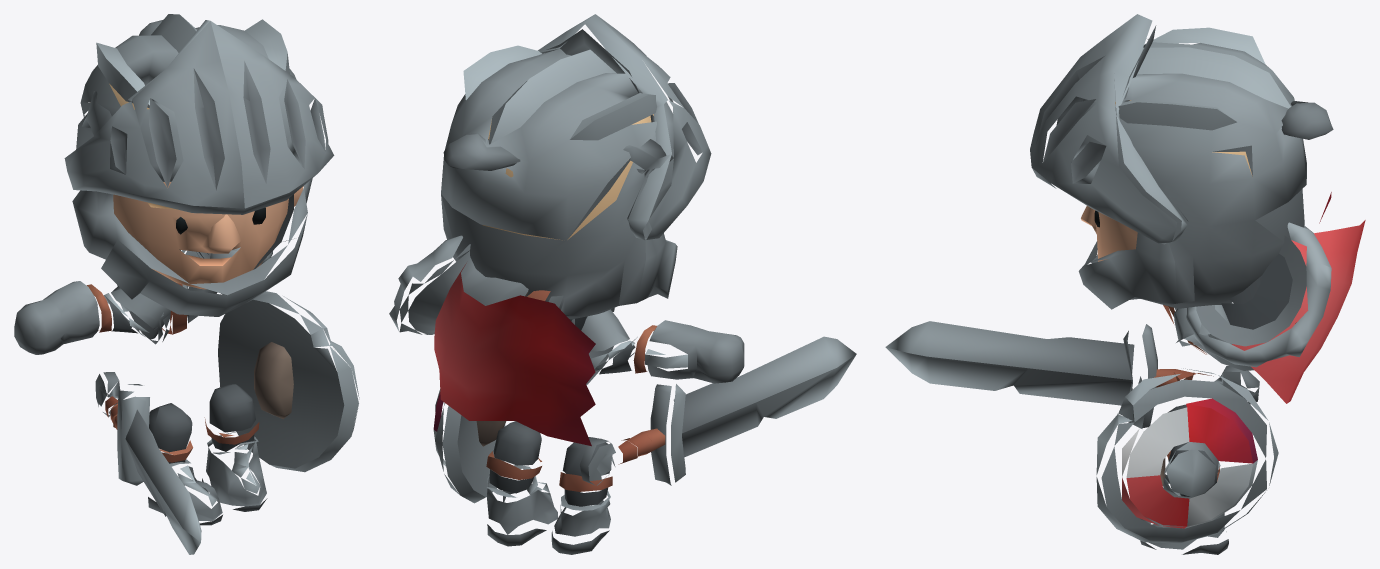
Rendered from soldier.glb.
3 views of the same model, side by side, from view 1: azimuth 30°, elevation 25°; view 2: azimuth 150°, elevation 25°; view 3: azimuth 270°, elevation 25° (orthographic).
Parts seen in each view (by area): view 1: trooper; view 2: trooper; view 3: trooper.
Boxes of the visible parts, x1,y1,x2,y2 form: trooper: [14, 14, 359, 554]; trooper: [389, 14, 856, 554]; trooper: [885, 14, 1365, 554].
Bounding box in the file's own units: 0.5992 × 0.9665 × 0.8261.
Materials: 1 (1 with a texture image).
